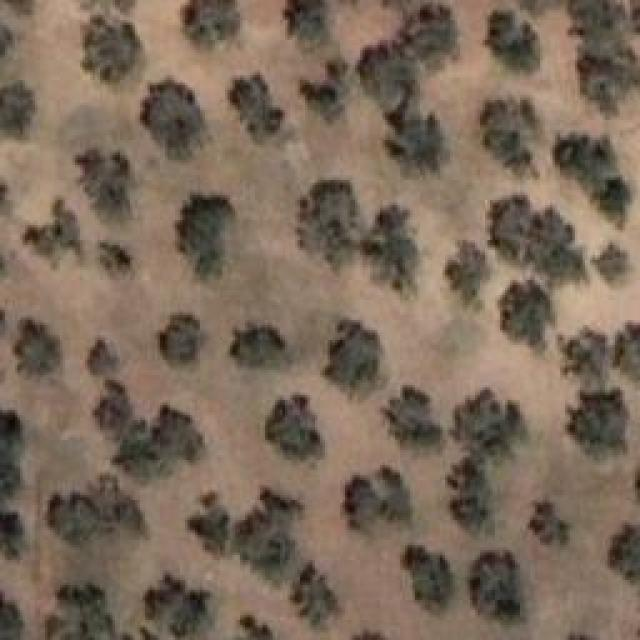Tree: (95, 380, 204, 478), (490, 195, 585, 282), (567, 0, 639, 112), (233, 488, 304, 585), (50, 475, 146, 546), (558, 137, 633, 227), (298, 180, 362, 270), (140, 85, 208, 162), (453, 388, 528, 456), (175, 195, 235, 278), (385, 98, 450, 173), (358, 40, 421, 112), (367, 202, 417, 291), (48, 588, 132, 640), (345, 468, 410, 534), (145, 572, 210, 637), (83, 15, 143, 82), (485, 103, 540, 176), (325, 320, 381, 390), (230, 72, 285, 142), (265, 395, 324, 460), (398, 3, 458, 66), (77, 153, 132, 221), (500, 280, 555, 348), (383, 385, 443, 447), (570, 393, 630, 455), (470, 553, 521, 621), (23, 200, 82, 258), (485, 13, 540, 74), (448, 455, 493, 528), (290, 562, 338, 627), (403, 548, 453, 610), (562, 328, 610, 391), (300, 60, 348, 121), (182, 0, 240, 46), (230, 322, 289, 367), (188, 494, 231, 554), (445, 240, 486, 302), (15, 318, 60, 374), (160, 314, 208, 364), (0, 409, 22, 499), (0, 83, 36, 136), (607, 525, 640, 582), (530, 503, 570, 546), (288, 0, 326, 41), (0, 583, 27, 640), (0, 510, 26, 568), (593, 242, 629, 282), (88, 338, 121, 375), (235, 610, 273, 639), (100, 243, 131, 271)
